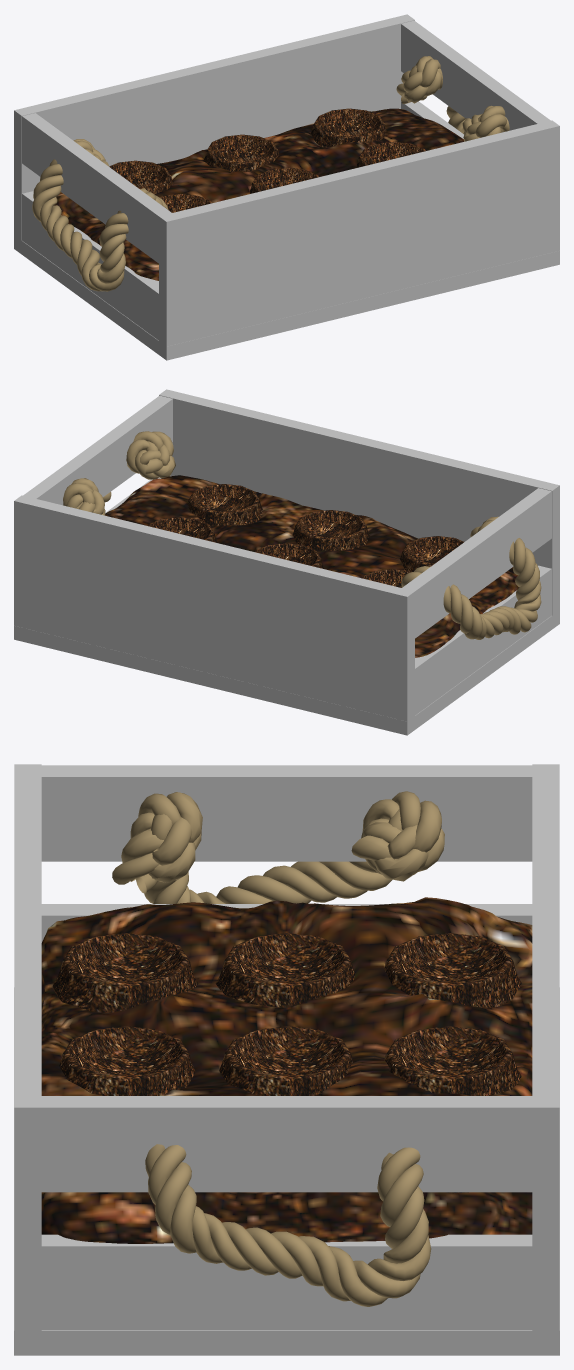
Rendered from sebze kasası.fbx.
The picture shows the model from 3 angles, top to bottom: view 1: azimuth 30°, elevation 25°; view 2: azimuth 150°, elevation 25°; view 3: azimuth 270°, elevation 25°; orthographic projection. The views are drawn at different scales.
Parts seen in each view (by area): view 1: Cube, Cube.001, Circle.002, Circle, Circle.001; view 2: Cube, Cube.001, Circle.002, Circle, Circle.001; view 3: Cube, Cube.001, Circle.002, Circle.001, Circle.
Boxes of the visible parts, x1,y1,x2,y2 form: Cube: (14,14,559,360); Cube.001: (54,108,463,280); Circle.002: (109,108,425,212); Circle: (32,139,168,291); Circle.001: (396,56,509,141); Cube: (14,389,559,735); Cube.001: (105,475,519,657); Circle.002: (148,484,463,587); Circle: (400,516,541,639); Circle.001: (63,431,175,515); Cube: (14,764,559,1355); Cube.001: (41,897,532,1243); Circle.002: (52,933,521,1193); Circle.001: (145,1095,431,1306); Circle: (112,791,444,903).
Size of the model in its own units: 666 by 197 by 394.
